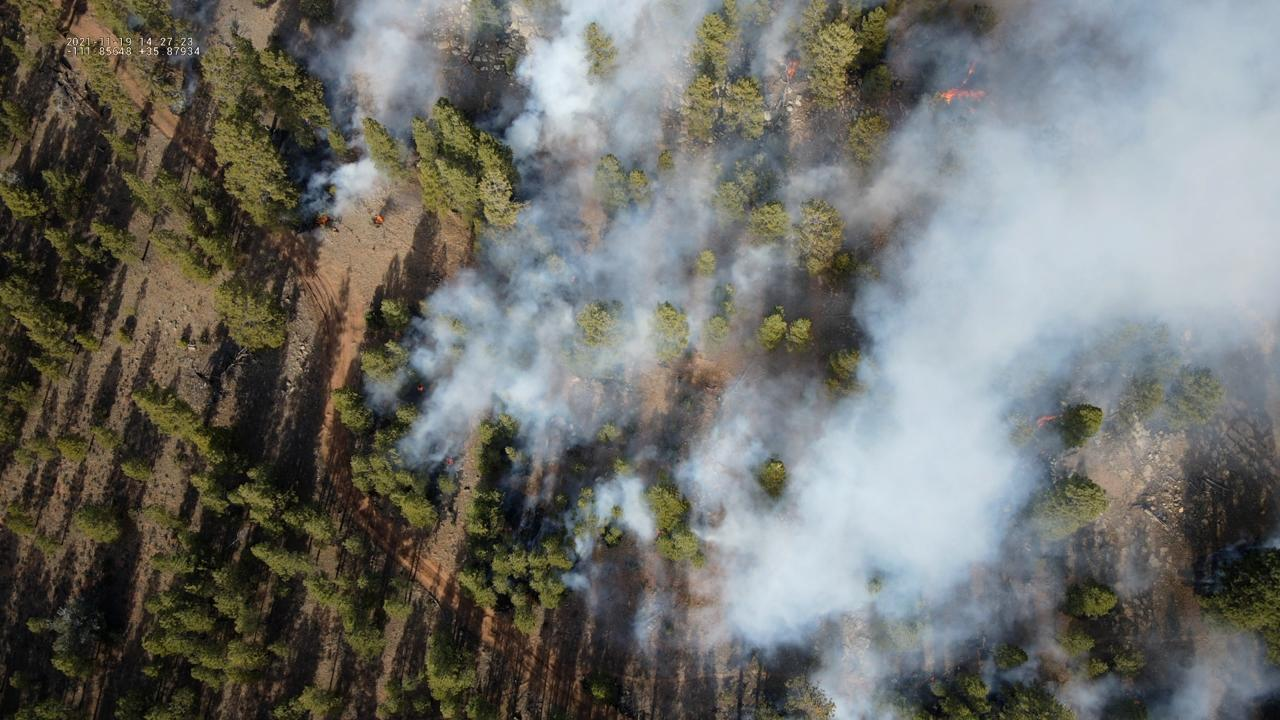fire: (939, 88, 986, 104), (1034, 414, 1058, 430), (961, 62, 975, 86), (785, 60, 797, 82), (314, 215, 328, 225), (373, 215, 384, 225), (654, 528, 665, 537), (446, 456, 454, 466), (417, 383, 425, 392)
smoke: (280, 0, 1280, 720), (162, 0, 221, 116), (126, 12, 143, 33)
